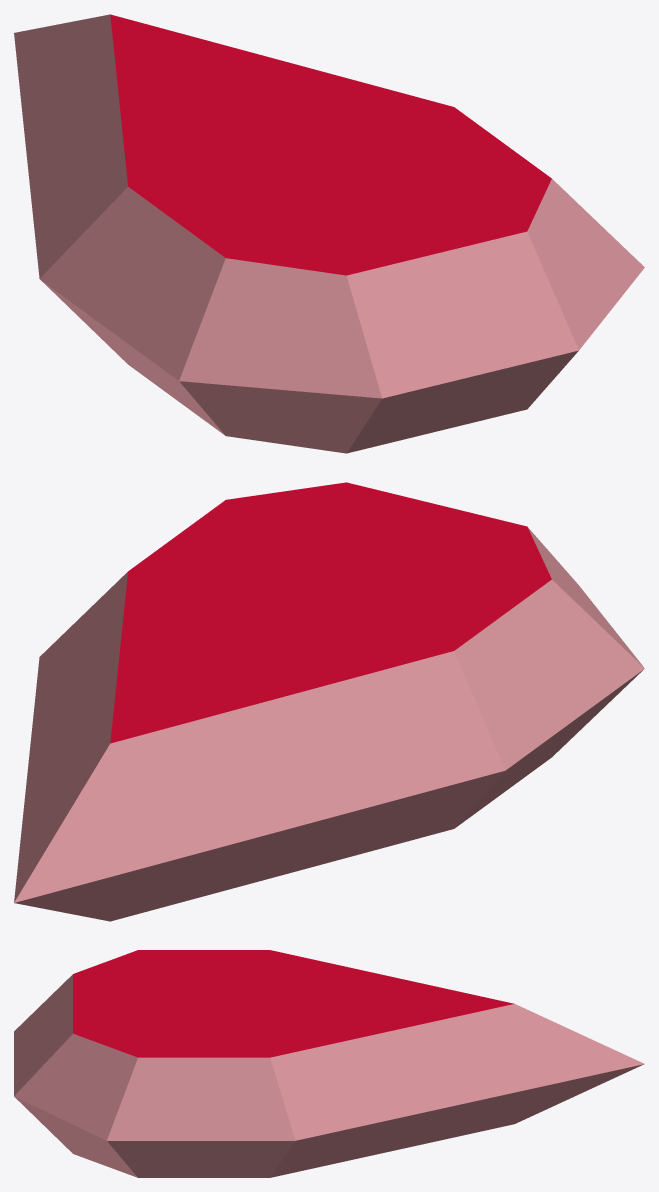
Rendered from ruby.fbx.
3 renders of one model, top to bottom at view 1: azimuth 30°, elevation 25°; view 2: azimuth 150°, elevation 25°; view 3: azimuth 270°, elevation 25°, orthographic. The views are drawn at different scales.
Visible parts, largest first — view 1: Cylinder; view 2: Cylinder; view 3: Cylinder.
Part boxes in pixels (x1=…): Cylinder: x1=14, y1=14, x2=644, y2=453; Cylinder: x1=14, y1=482, x2=644, y2=921; Cylinder: x1=14, y1=950, x2=644, y2=1177.
Bounding box in the file's own units: 54.79 × 20 × 95.05.
